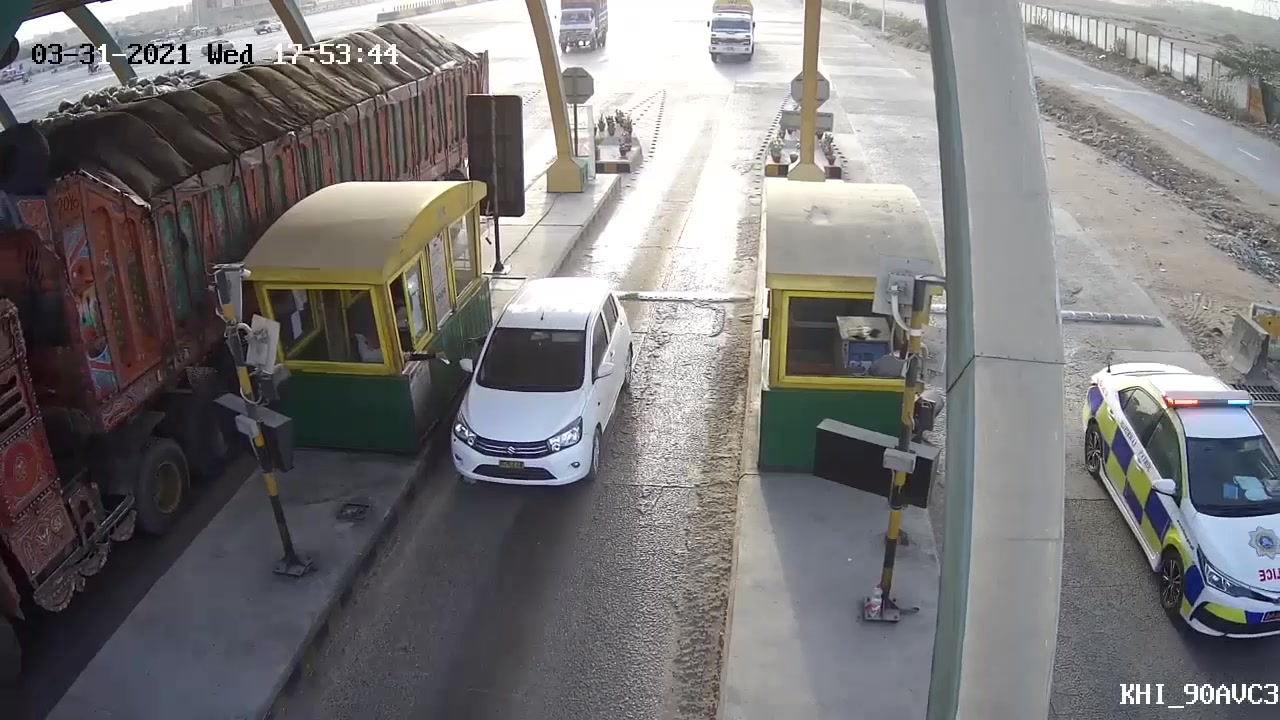F1: (429, 268, 648, 507)
